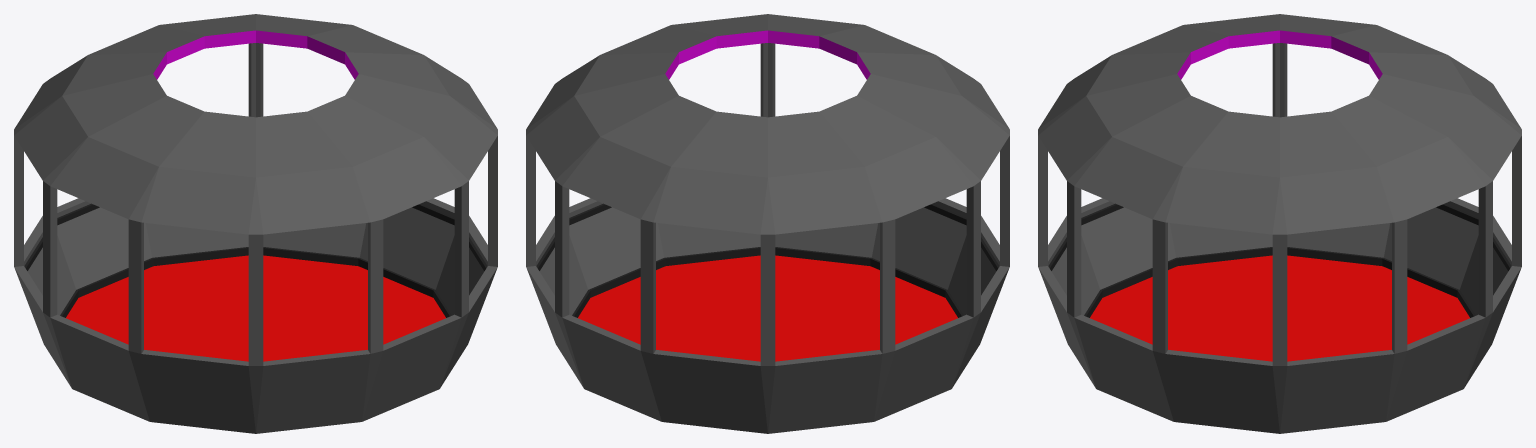
File: Home Room Pod.fbx
The picture shows the model from 3 angles, left to right: view 1: azimuth 30°, elevation 25°; view 2: azimuth 150°, elevation 25°; view 3: azimuth 270°, elevation 25°; orthographic projection.
Visible parts, largest first — view 1: Room; view 2: Room; view 3: Room.
Part boxes in pixels (bbox=[...]): Room: bbox=[14, 14, 497, 433]; Room: bbox=[526, 14, 1009, 433]; Room: bbox=[1038, 14, 1521, 433].
Size of the model in its own units: 506 by 312 by 506.
